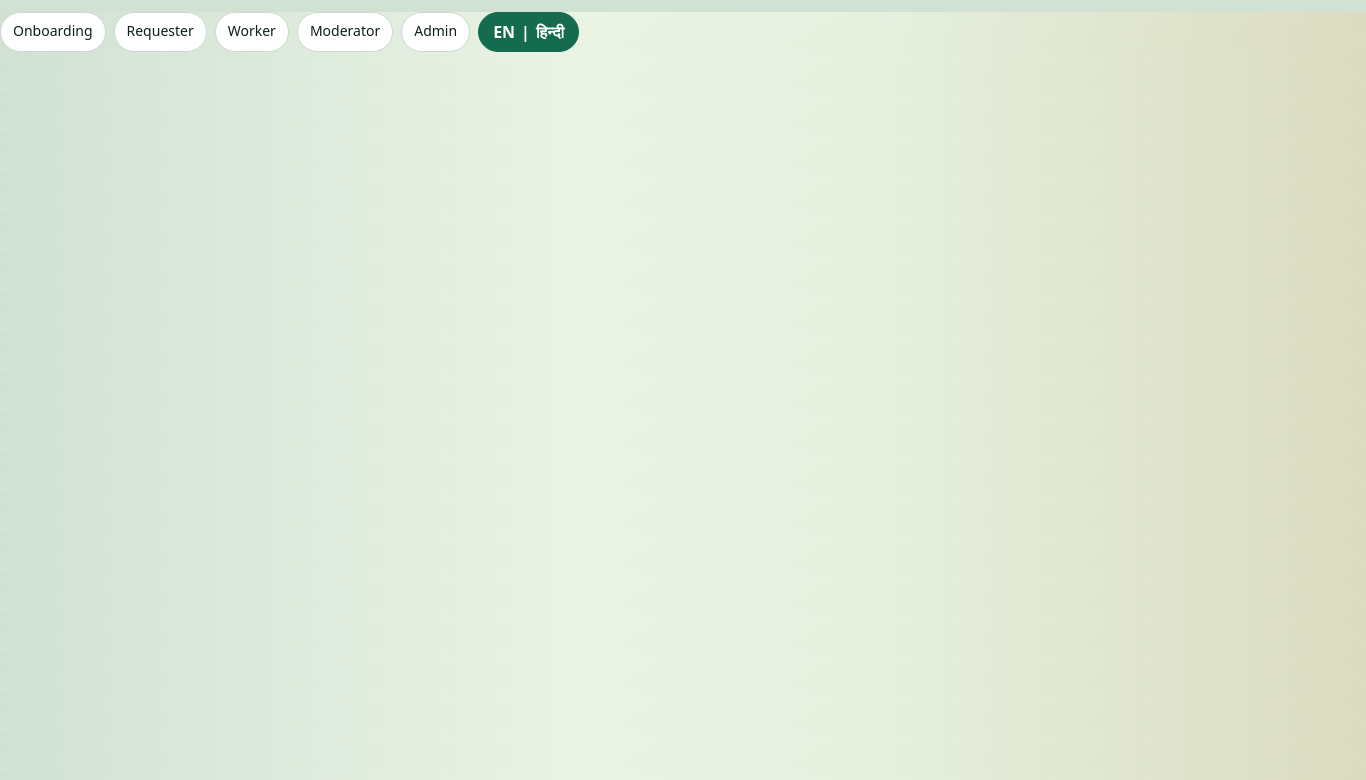
Test: TopNav i18n integration › Hindi locale (after toggle) › switches nav labels to Hindi when language is toggled
The image size is (1366, 780).
Step 1. Click the button with test id "language-toggle" → coordinates (529, 32), box [478,12,579,52]
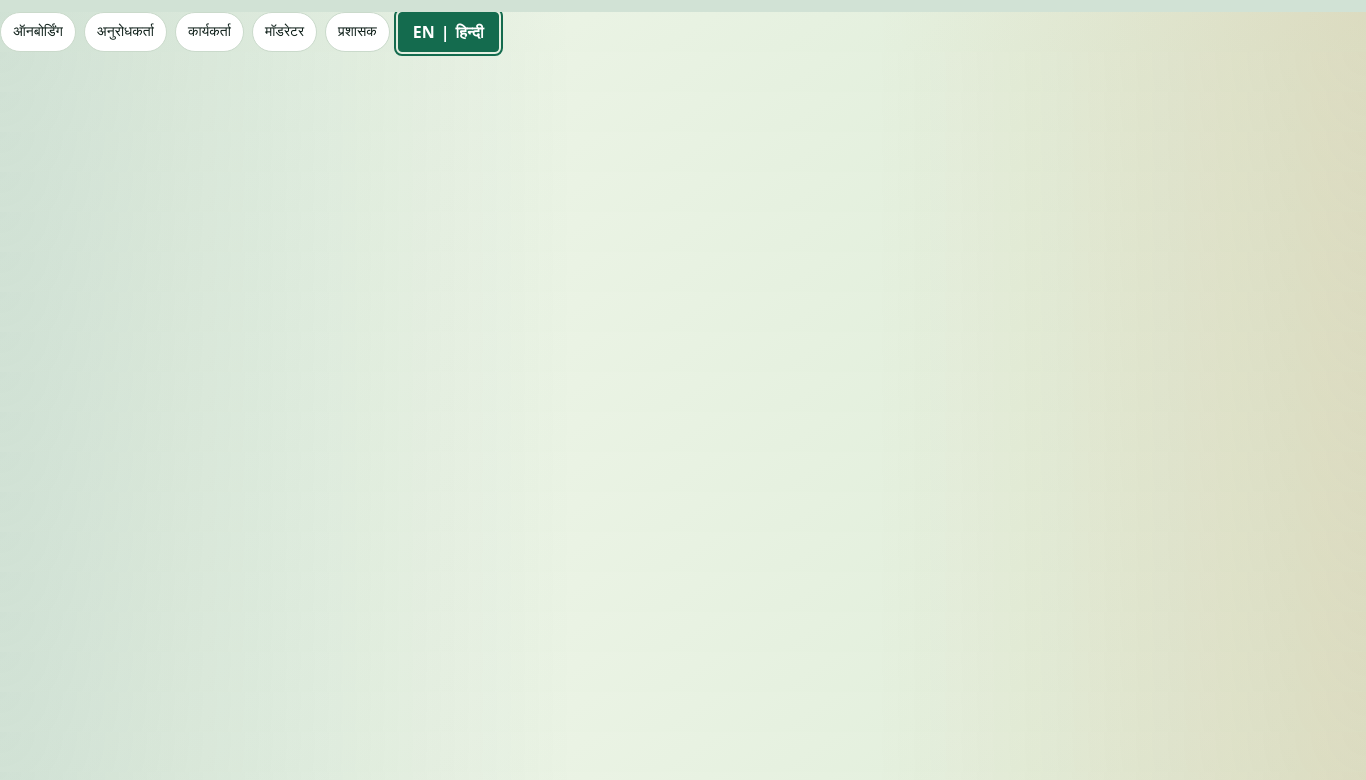
Expected: the link "ऑनबोर्डिंग" is shown, [0,12,76,52]
Expected: the link "अनुरोधकर्ता" is shown, [84,12,167,52]
Expected: the link "कार्यकर्ता" is shown, [175,12,244,52]
